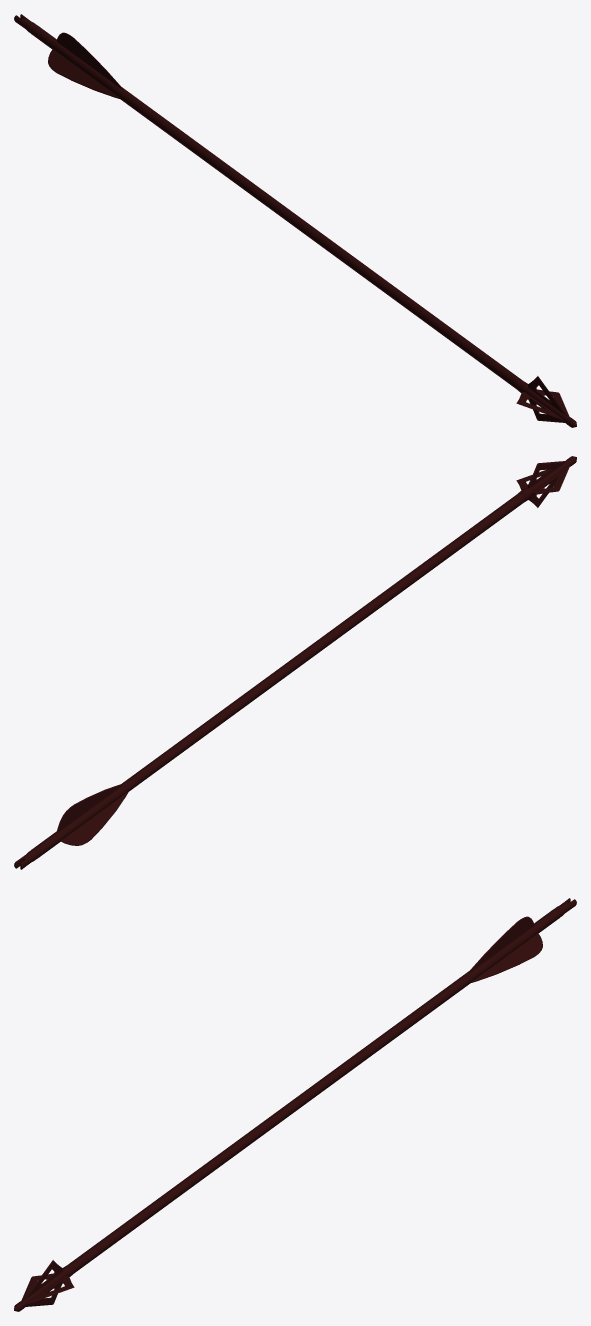
The model's file is arrowmodel.FBX.
3 views of the same model, one above another, from view 1: azimuth 30°, elevation 25°; view 2: azimuth 150°, elevation 25°; view 3: azimuth 330°, elevation 25° (orthographic).
Parts seen in each view (by area): view 1: arrow_02; view 2: arrow_02; view 3: arrow_02.
Part boxes in pixels (x1=…): arrow_02: x1=14, y1=14, x2=576, y2=427; arrow_02: x1=14, y1=456, x2=576, y2=869; arrow_02: x1=14, y1=898, x2=576, y2=1311.
Size of the model in its own units: 3.55 by 79.98 by 3.55.
